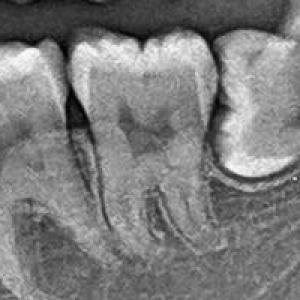tooth: (69, 25, 224, 255), (0, 38, 105, 282), (211, 27, 300, 184)
